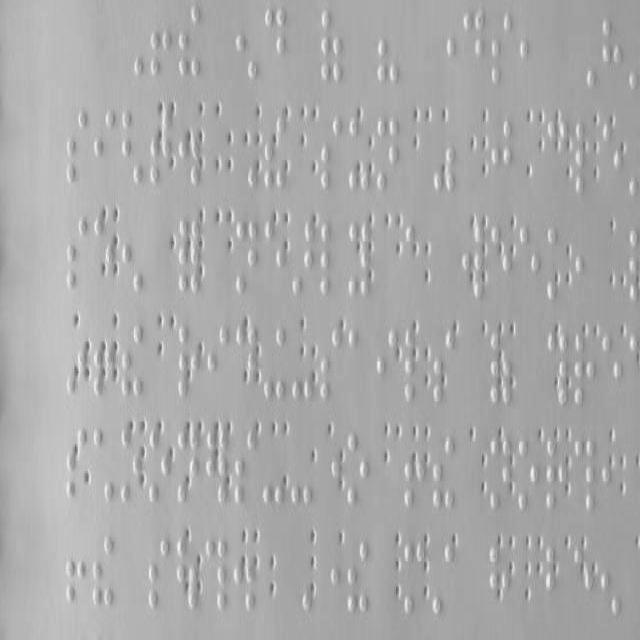braiile: (181, 134, 209, 216), (529, 26, 553, 112), (380, 246, 406, 322), (354, 28, 378, 110), (588, 138, 614, 212), (124, 27, 148, 106), (66, 241, 90, 319), (528, 248, 552, 326), (516, 434, 540, 512), (322, 246, 346, 322), (499, 248, 523, 324), (147, 536, 171, 612), (210, 26, 232, 108), (10, 243, 34, 317), (237, 245, 261, 319), (295, 248, 319, 322), (469, 250, 493, 323), (441, 248, 464, 324), (471, 136, 493, 214), (500, 136, 522, 214), (68, 348, 90, 426), (206, 323, 228, 401), (148, 428, 170, 506), (39, 242, 61, 318), (234, 431, 256, 507), (488, 436, 510, 512), (544, 436, 566, 512), (40, 30, 62, 104), (95, 28, 117, 102), (266, 248, 288, 322), (601, 332, 623, 406), (402, 543, 424, 617), (120, 424, 140, 504), (574, 331, 594, 407)
